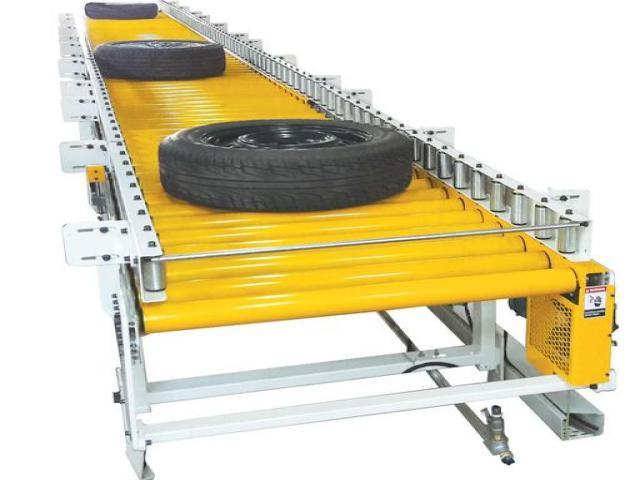conveyor: (51, 0, 619, 479)
